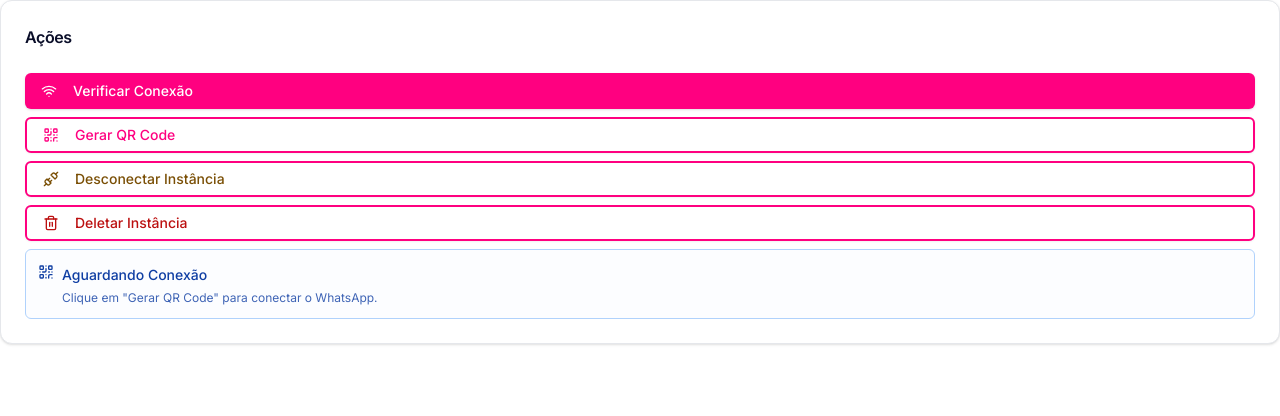
Test: ChipActionsPanel › Verificar Conexão › verifica conexão e mostra resultado conectado
The width and height of the screenshot is (1280, 416).
Click the button "Verificar Conexão": point(133, 90) [25, 73, 1255, 109]
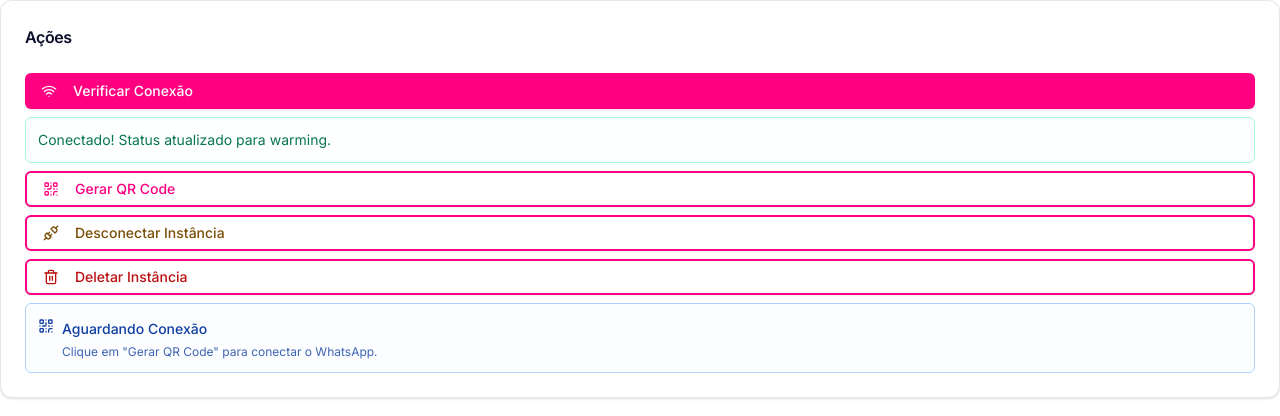
Now the text "Conectado! Status atualizado para warming." is shown, box [38, 131, 331, 148]
